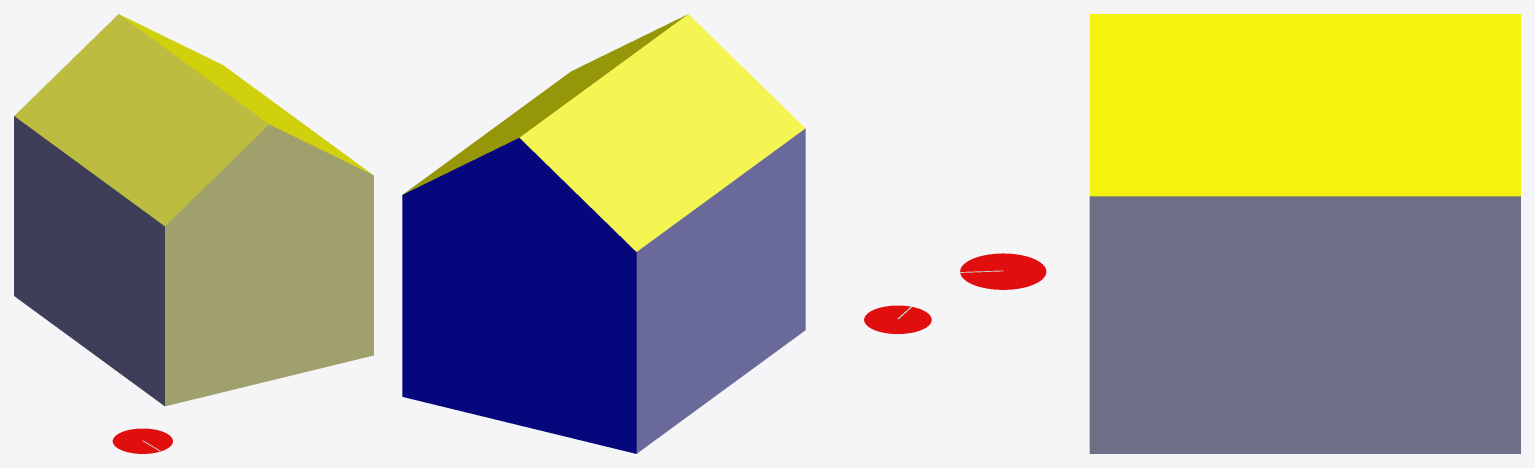
Rendered from result.glb.
3 views of the same model, side by side, from view 1: azimuth 30°, elevation 25°; view 2: azimuth 150°, elevation 25°; view 3: azimuth 270°, elevation 25° (orthographic). The views are drawn at different scales.
Parts seen in each view (by area): view 1: a03168b4-0de8-45ed-923f-bc234eca8661__undefined, de2b7f81-37e3-4382-a7fe-f0b1e50abdbb__undefined, 5f67a47b-bdb0-4fe4-b0b2-abb392658324__undefined, ffdb0ad9-74b4-480a-bfc6-b1f8115d12b3__undefined, 21140ac4-72e1-4874-b81f-27d0d7d71f65__Circle; view 2: 8b8f328b-c866-43fd-8d1c-531eac002ca3__undefined, de2b7f81-37e3-4382-a7fe-f0b1e50abdbb__undefined, 5f67a47b-bdb0-4fe4-b0b2-abb392658324__undefined, ffdb0ad9-74b4-480a-bfc6-b1f8115d12b3__undefined, 21140ac4-72e1-4874-b81f-27d0d7d71f65__Circle; view 3: a13797be-d8de-4237-8e46-8b9a06ed5ddd__undefined, ffdb0ad9-74b4-480a-bfc6-b1f8115d12b3__undefined, 21140ac4-72e1-4874-b81f-27d0d7d71f65__Circle.
Part boxes in pixels (<box>): a03168b4-0de8-45ed-923f-bc234eca8661__undefined: <box>165,124,373,406</box>; de2b7f81-37e3-4382-a7fe-f0b1e50abdbb__undefined: <box>14,116,164,405</box>; 5f67a47b-bdb0-4fe4-b0b2-abb392658324__undefined: <box>14,14,268,225</box>; ffdb0ad9-74b4-480a-bfc6-b1f8115d12b3__undefined: <box>119,14,372,174</box>; 21140ac4-72e1-4874-b81f-27d0d7d71f65__Circle: <box>112,428,172,453</box>; 8b8f328b-c866-43fd-8d1c-531eac002ca3__undefined: <box>402,138,636,453</box>; de2b7f81-37e3-4382-a7fe-f0b1e50abdbb__undefined: <box>636,128,805,453</box>; 5f67a47b-bdb0-4fe4-b0b2-abb392658324__undefined: <box>519,14,805,251</box>; ffdb0ad9-74b4-480a-bfc6-b1f8115d12b3__undefined: <box>403,14,687,194</box>; 21140ac4-72e1-4874-b81f-27d0d7d71f65__Circle: <box>864,305,931,333</box>; a13797be-d8de-4237-8e46-8b9a06ed5ddd__undefined: <box>1089,196,1520,453</box>; ffdb0ad9-74b4-480a-bfc6-b1f8115d12b3__undefined: <box>1089,14,1520,196</box>; 21140ac4-72e1-4874-b81f-27d0d7d71f65__Circle: <box>960,253,1046,289</box>.
Size of the model in its own units: 550 by 469 by 650.
